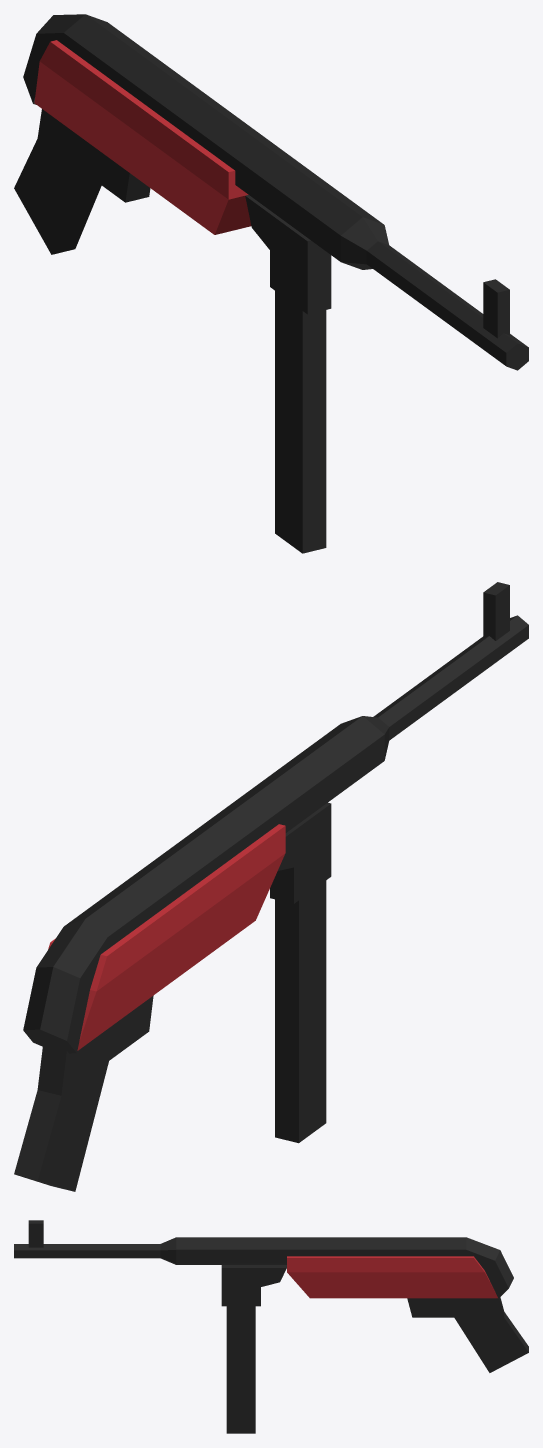
Rendered from weapons_mp40.fbx.
The picture shows the model from 3 angles, top to bottom: view 1: azimuth 30°, elevation 25°; view 2: azimuth 150°, elevation 25°; view 3: azimuth 270°, elevation 25°; orthographic projection. The views are drawn at different scales.
Visible parts, largest first — view 1: weapons_mp40; view 2: weapons_mp40; view 3: weapons_mp40.
Boxes of the visible parts, box(x1,y1,x2,y2) form: weapons_mp40: box(14, 14, 528, 553); weapons_mp40: box(14, 582, 528, 1191); weapons_mp40: box(14, 1220, 528, 1433).
Size of the model in its own units: 13.36 by 89.32 by 200.
